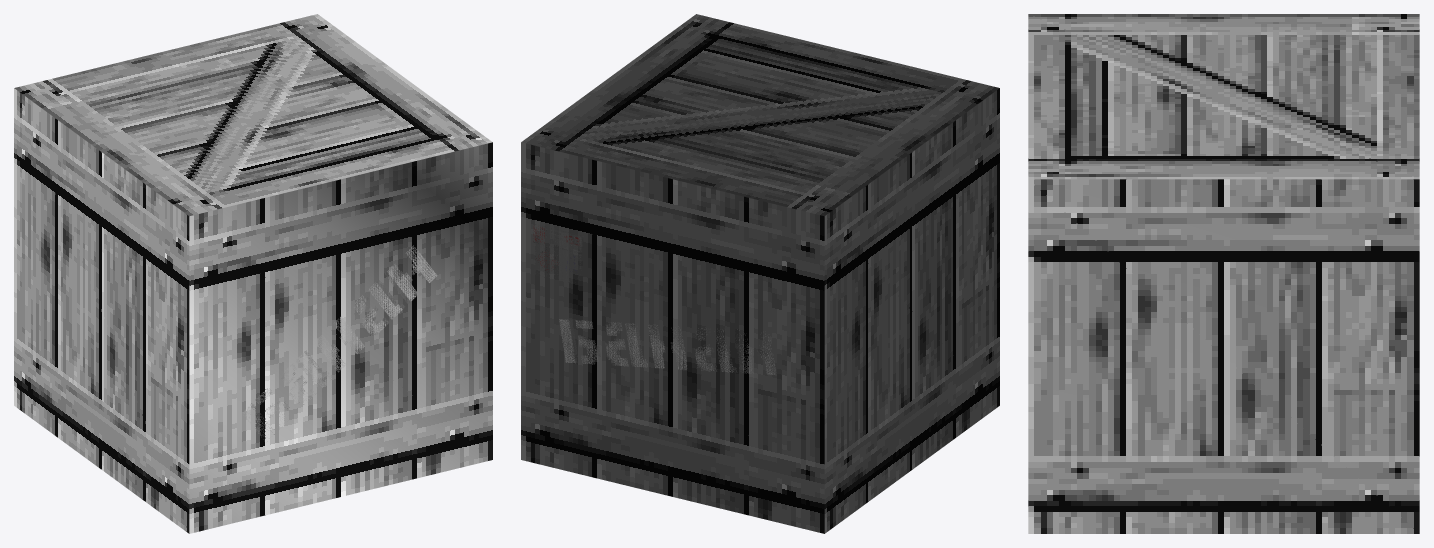
File: Pwood_sm_crate5Z.obj
The picture shows the model from 3 angles, left to right: view 1: azimuth 30°, elevation 25°; view 2: azimuth 150°, elevation 25°; view 3: azimuth 270°, elevation 25°; orthographic projection. The views are drawn at different scales.
Bounding box in the file's own units: 840 × 840 × 840.
4 materials, 4 textured.
